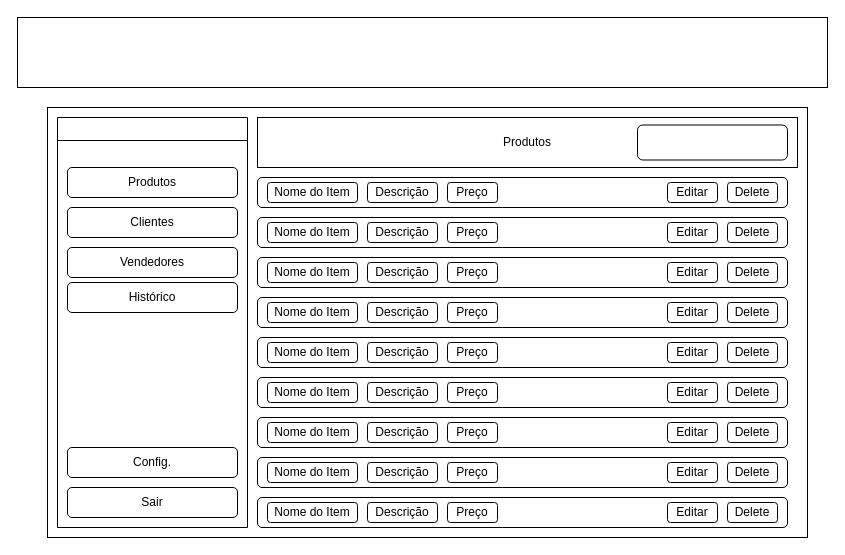
This 845x555 diagram has some shape labels left out. The box of each missing label's shape, as (x1, y1, x2, y2) in pixels:
Adicionar Novo Produto: (636, 124, 788, 160)
Menu: (56, 116, 248, 528)
Área Administrativa: (16, 16, 828, 88)
